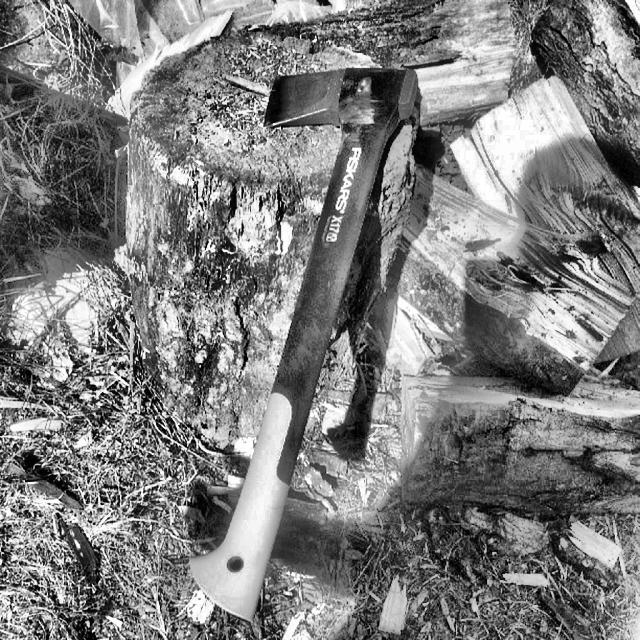kapak: (181, 62, 423, 629)
